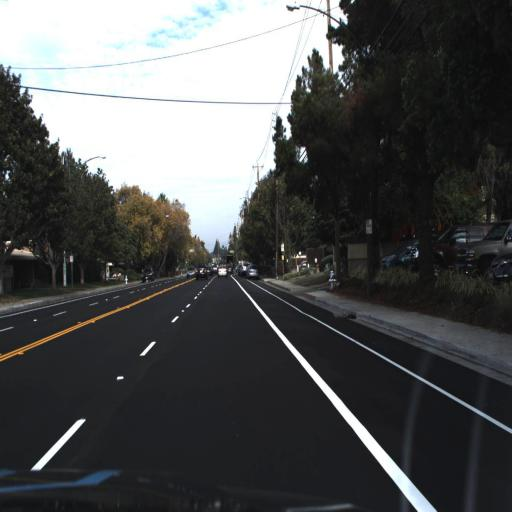car: (408, 225, 468, 276), (376, 243, 406, 277), (139, 262, 157, 290), (248, 260, 263, 281), (193, 259, 208, 278)
